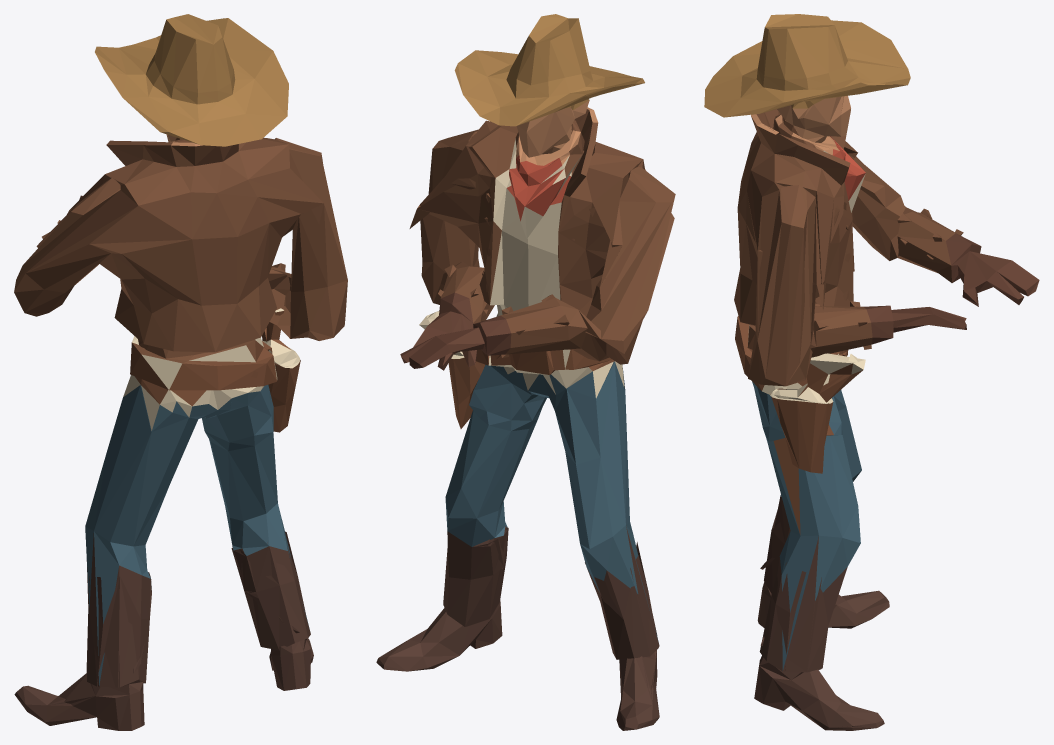
The model's file is cowboy_tripo.glb.
The picture shows the model from 3 angles, left to right: view 1: azimuth 30°, elevation 25°; view 2: azimuth 150°, elevation 25°; view 3: azimuth 270°, elevation 25°; orthographic projection. The views are drawn at different scales.
Visible parts, largest first — view 1: CowboyBody, CowboyLegL, CowboyHead, CowboyLegR, CowboyArms, CowboyShinL, CowboyShinR; view 2: CowboyBody, CowboyLegR, CowboyLegL, CowboyHead, CowboyArms, CowboyShinL, CowboyShinR; view 3: CowboyBody, CowboyLegR, CowboyHead, CowboyArms, CowboyLegL, CowboyShinR, CowboyShinL.
Boxes of the visible parts, x1,y1,x2,y2 form: CowboyBody: (16,137,347,430); CowboyLegL: (14,385,208,730); CowboyHead: (95,14,288,146); CowboyLegR: (202,360,313,690); CowboyArms: (14,195,347,340); CowboyShinL: (46,572,151,721); CowboyShinR: (231,531,311,650); CowboyBody: (409,109,675,398); CowboyLegR: (376,357,546,671); CowboyLegL: (542,361,659,730); CowboyHead: (454,14,644,165); CowboyArms: (400,257,647,370); CowboyShinL: (585,542,659,716); CowboyShinR: (443,527,508,602); CowboyBody: (734,109,905,403); CowboyLegR: (752,381,884,730); CowboyHead: (704,14,910,154); CowboyArms: (748,186,1039,386); CowboyLegL: (757,390,889,628); CowboyShinR: (759,562,872,730); CowboyShinL: (764,510,790,593).
Size of the model in its own units: 0.7911 by 1.85 by 0.8598.
